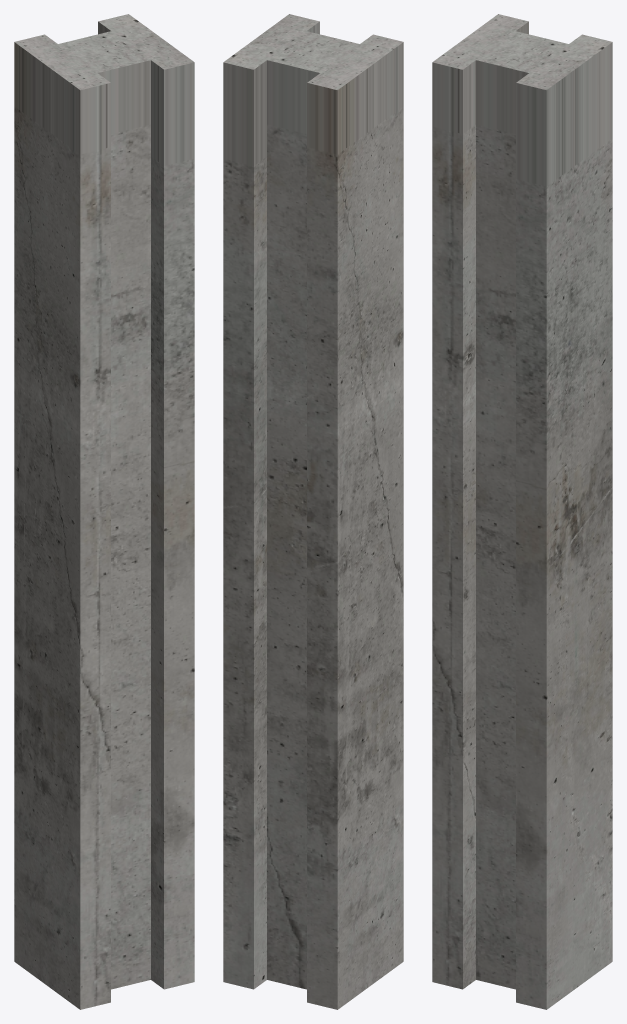
The model's file is SM_pillar_Sloted_texture test.fbx.
The picture shows the model from 3 angles, left to right: view 1: azimuth 30°, elevation 25°; view 2: azimuth 150°, elevation 25°; view 3: azimuth 330°, elevation 25°; orthographic projection.
Visible parts, largest first — view 1: SM_pillar_Sloted_texture test; view 2: SM_pillar_Sloted_texture test; view 3: SM_pillar_Sloted_texture test.
Boxes of the visible parts, left/top/right/bottom form: SM_pillar_Sloted_texture test: left=14, top=14, right=194, bottom=1009; SM_pillar_Sloted_texture test: left=223, top=14, right=403, bottom=1009; SM_pillar_Sloted_texture test: left=432, top=14, right=612, bottom=1009.
Bounding box in the file's own units: 29.99 × 230 × 29.98.
